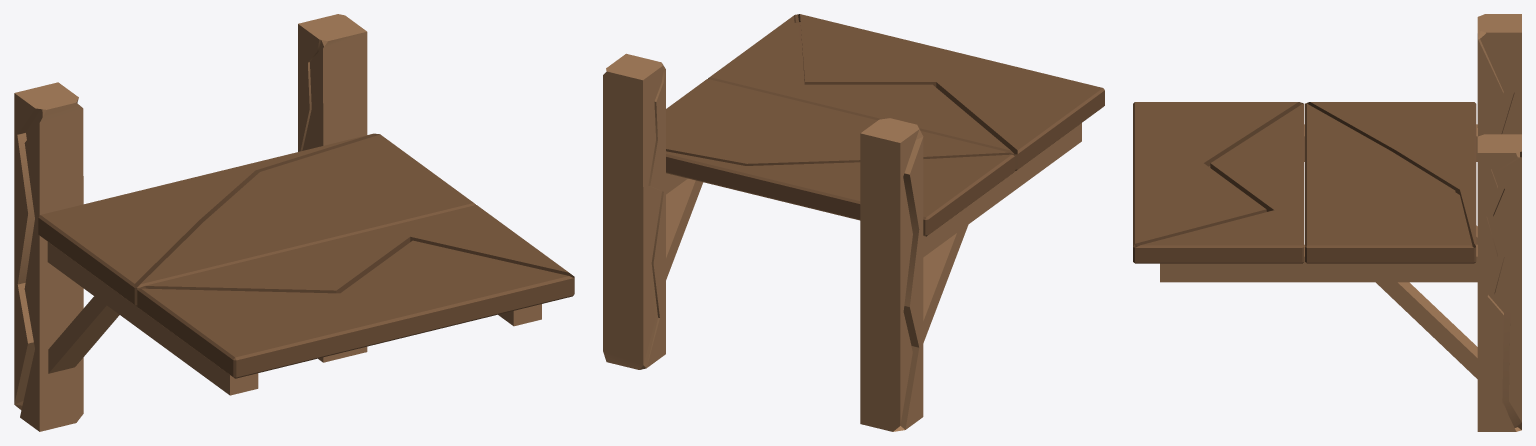
Rendered from Soporte De Madera Roto.fbx.
3 renders of one model, left to right at view 1: azimuth 30°, elevation 25°; view 2: azimuth 150°, elevation 25°; view 3: azimuth 270°, elevation 25°, orthographic. The views are drawn at different scales.
Parts seen in each view (by area): view 1: polySurface479; view 2: polySurface479; view 3: polySurface479.
Part boxes in pixels (x1,y1,x2,y2): polySurface479: (14,14,574,431); polySurface479: (603,14,1104,431); polySurface479: (1133,14,1521,431).
Bounding box in the file's own units: 2.99 × 2.68 × 3.39.
